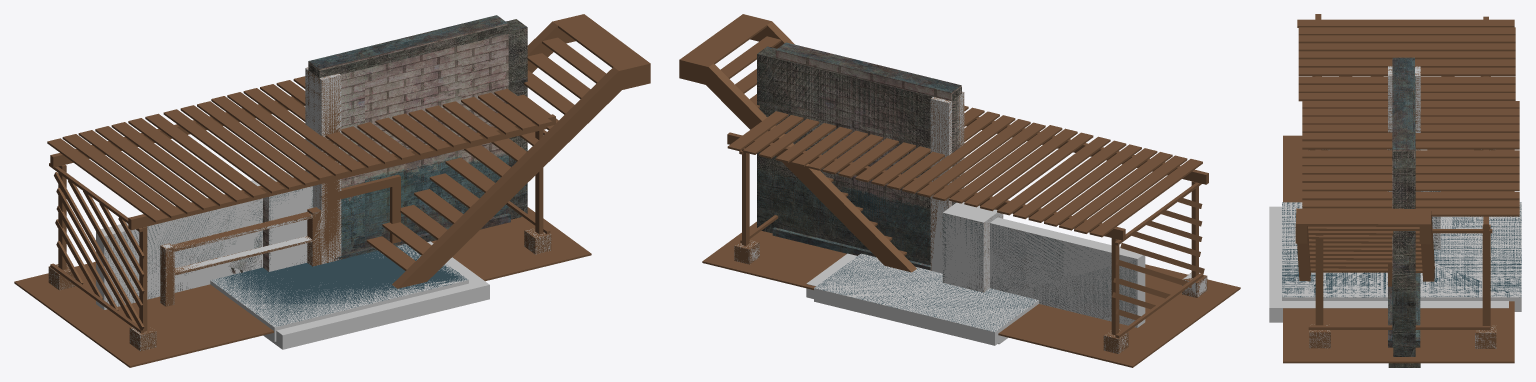
The model's file is modular building.fbx.
3 renders of one model, left to right at view 1: azimuth 30°, elevation 25°; view 2: azimuth 150°, elevation 25°; view 3: azimuth 270°, elevation 25°, orthographic. The views are drawn at different scales.
Parts seen in each view (by area): view 1: Group11, Group4, Group8, Group5, Group3, Group1, Group10, Group6, Group7, Group2, Group9, Group12; view 2: Group11, Group10, Group8, Group5, Group4, Group3, Group2, Group9, Group6; view 3: Group11, Group5, Group4, Group10, Group6, Group2, Group3, Group9, Group8, Group1.
Part boxes in pixels (left/top/right/bottom): Group11: left=14, top=76, right=591, bottom=367; Group4: left=366, top=14, right=650, bottom=288; Group8: left=96, top=172, right=312, bottom=309; Group5: left=210, top=244, right=468, bottom=341; Group3: left=308, top=15, right=509, bottom=255; Group1: left=308, top=34, right=508, bottom=253; Group10: left=305, top=19, right=527, bottom=264; Group6: left=263, top=241, right=489, bottom=349; Group7: left=160, top=207, right=321, bottom=306; Group2: left=311, top=17, right=510, bottom=260; Group9: left=308, top=24, right=508, bottom=249; Group12: left=321, top=174, right=400, bottom=259; Group11: left=702, top=105, right=1240, bottom=367; Group10: left=757, top=46, right=964, bottom=273; Group8: left=942, top=202, right=1145, bottom=327; Group5: left=814, top=253, right=1038, bottom=345; Group4: left=679, top=14, right=916, bottom=272; Group3: left=774, top=42, right=961, bottom=251; Group2: left=772, top=48, right=959, bottom=270; Group9: left=780, top=87, right=961, bottom=239; Group6: left=806, top=253, right=1007, bottom=344; Group11: left=1283, top=14, right=1519, bottom=363; Group5: left=1282, top=202, right=1521, bottom=311; Group4: left=1295, top=208, right=1434, bottom=281; Group10: left=1388, top=66, right=1420, bottom=367; Group6: left=1269, top=206, right=1508, bottom=322; Group2: left=1388, top=58, right=1420, bottom=347; Group3: left=1388, top=57, right=1420, bottom=339; Group9: left=1388, top=59, right=1420, bottom=346; Group8: left=1420, top=149, right=1440, bottom=249; Group1: left=1392, top=160, right=1393, bottom=347.
Size of the model in its own units: 435 by 178 by 180.
